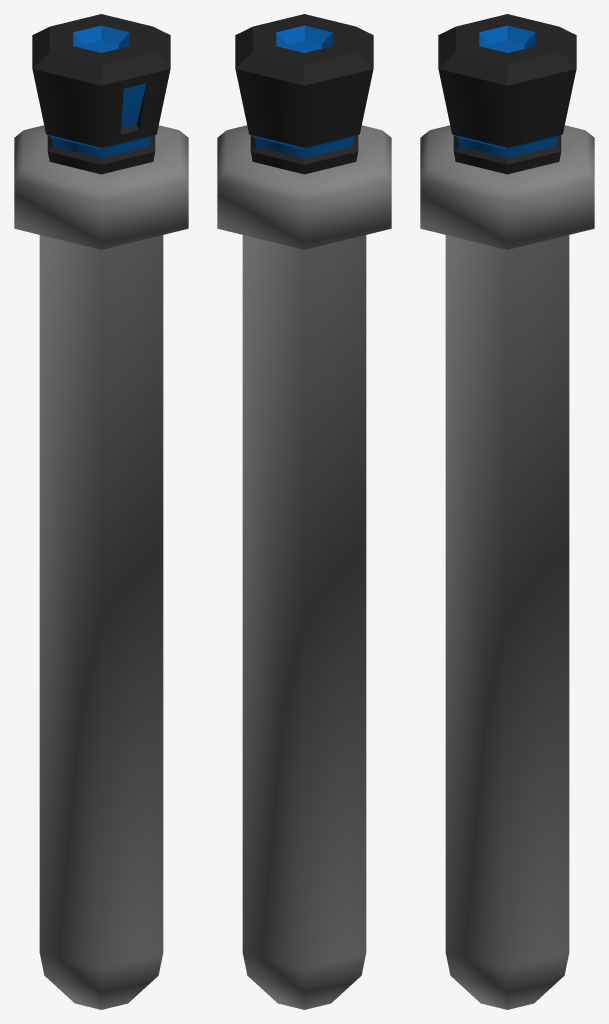
The model's file is potion02(final).FBX.
3 views of the same model, side by side, from view 1: azimuth 30°, elevation 25°; view 2: azimuth 150°, elevation 25°; view 3: azimuth 270°, elevation 25° (orthographic).
Parts seen in each view (by area): view 1: potion2_galss, potion2_cap; view 2: potion2_galss, potion2_cap; view 3: potion2_galss, potion2_cap.
Boxes of the visible parts, x1=… form: potion2_galss: x1=14, y1=125, x2=188, y2=1009; potion2_cap: x1=32, y1=14, x2=170, y2=174; potion2_galss: x1=217, y1=125, x2=391, y2=1009; potion2_cap: x1=235, y1=14, x2=373, y2=174; potion2_galss: x1=420, y1=125, x2=594, y2=1009; potion2_cap: x1=438, y1=14, x2=576, y2=174.
Size of the model in its own units: 36.47 by 192 by 31.58.
